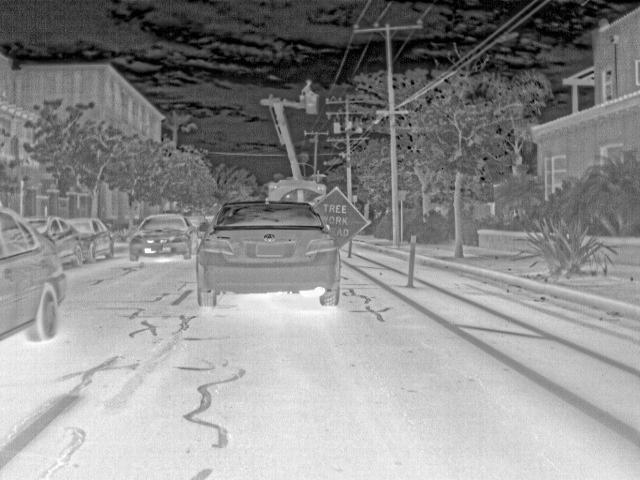car: (194, 200, 340, 308), (0, 204, 74, 344), (128, 212, 198, 262), (45, 215, 82, 266), (81, 216, 114, 262), (186, 214, 208, 233)
person: (300, 77, 314, 94)
